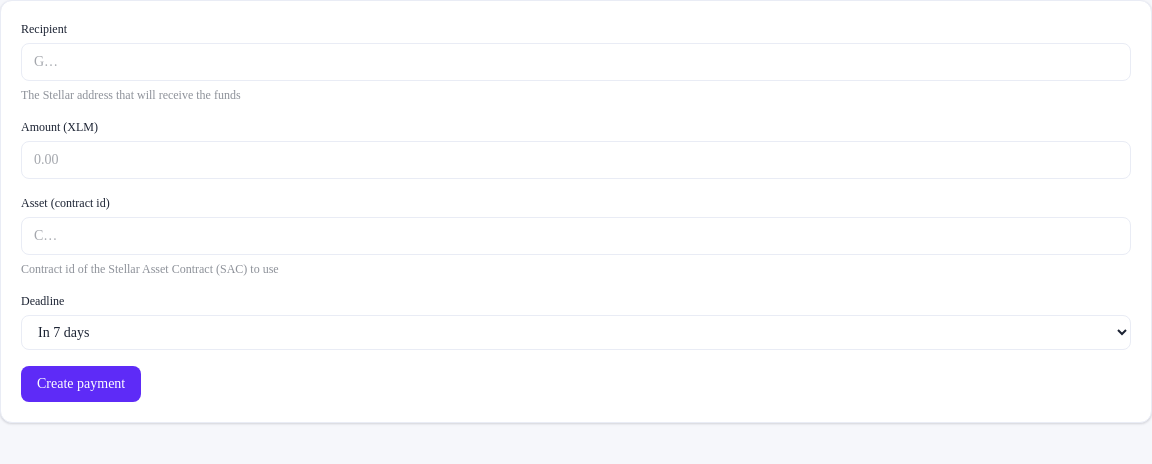
Test: PaymentForm › shows validation errors for invalid input
Type "nope" into the field labelled "Recipient" at (576,62), box 21,43 -> 1131,81
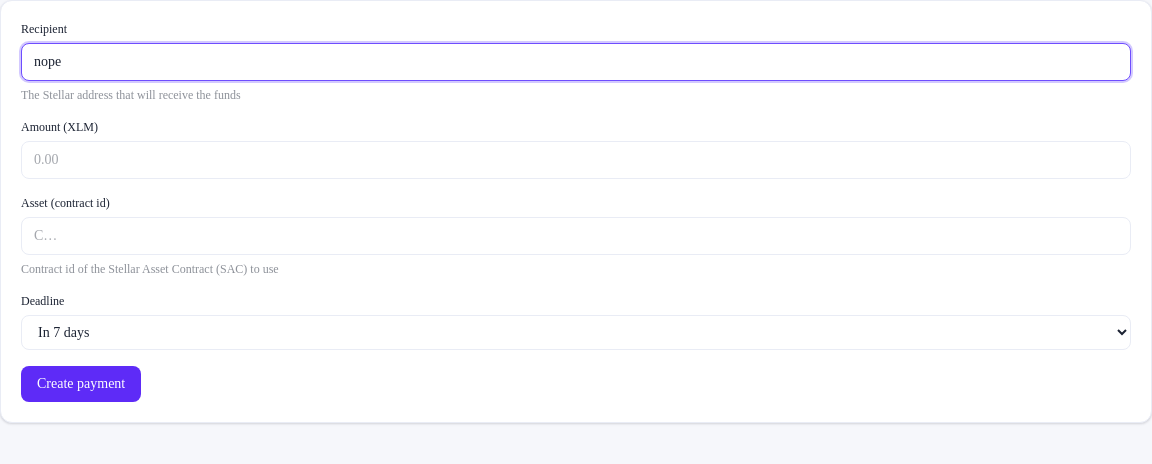
Click the button "Create payment" at (81,384), box 21,366 -> 141,402
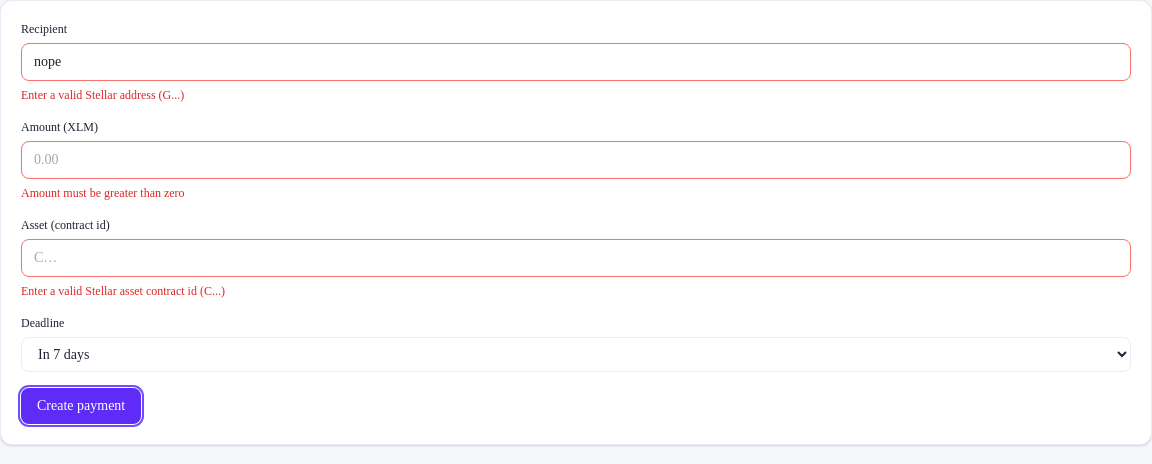
Check: the message "Enter a valid Stellar address (G...)" is shown, box 21,88 -> 184,102
